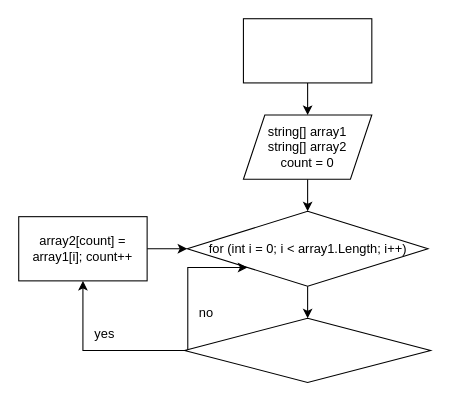
Image size: 449x401. Some labels were removed from this diagram. Each missing label, with the box of its shape:
Array: (242, 18, 372, 83)
if (array1[i].Length <=3): (184, 317, 431, 383)
